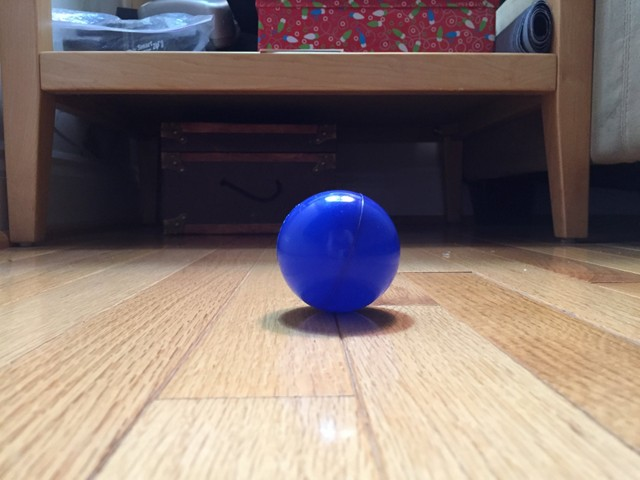Ball: (278, 189, 399, 313)
